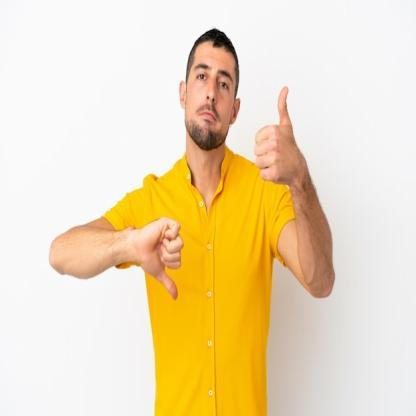thumb_down: (132, 212, 186, 304)
thumb_up: (252, 82, 300, 190)
